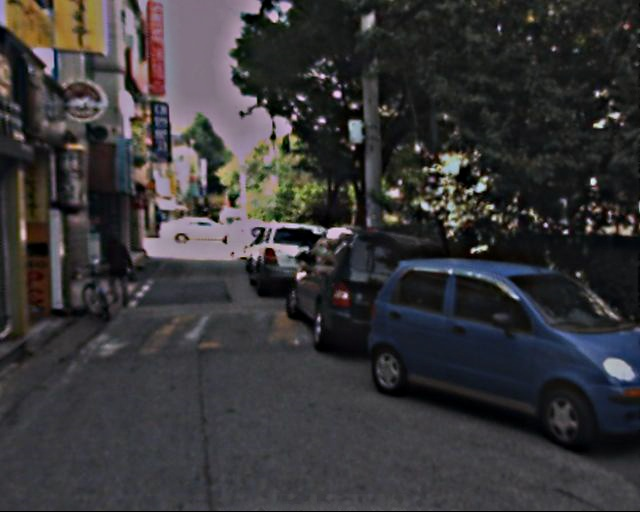person: (101, 226, 132, 307)
